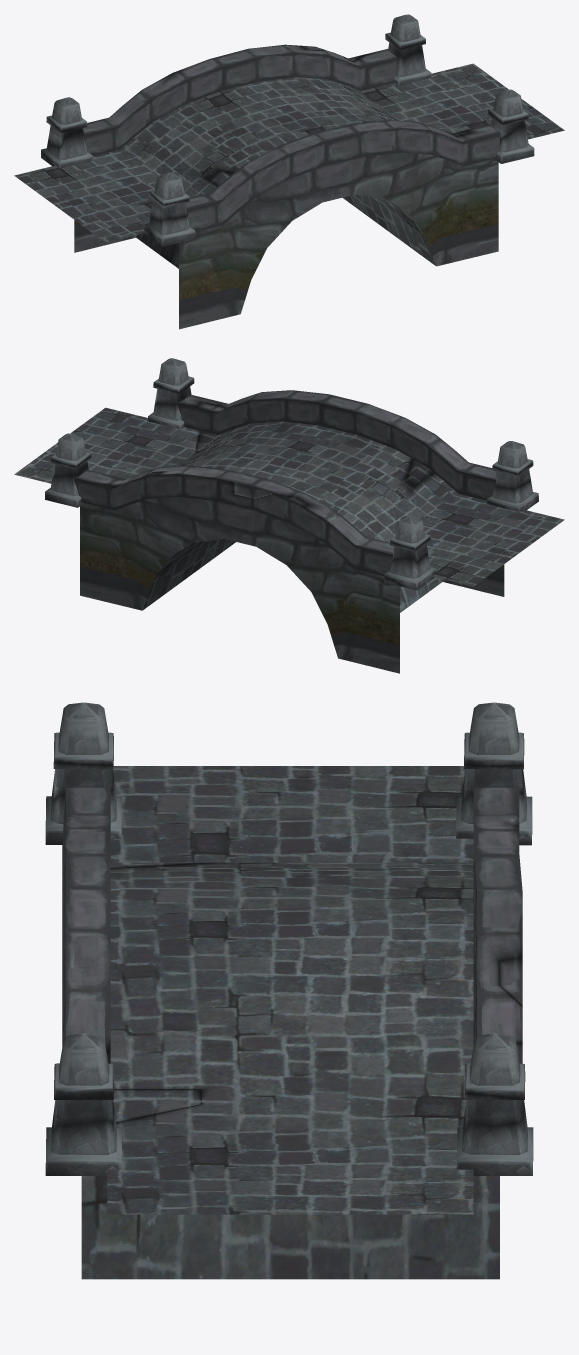
File: object_bridges.fbx
3 renders of one model, top to bottom at view 1: azimuth 30°, elevation 25°; view 2: azimuth 150°, elevation 25°; view 3: azimuth 270°, elevation 25°, orthographic. The views are drawn at different scales.
Parts seen in each view (by area): view 1: object_bridges-0; view 2: object_bridges-0; view 3: object_bridges-0.
Part boxes in pixels (x1=…): object_bridges-0: x1=14, y1=14, x2=564, y2=329; object_bridges-0: x1=14, y1=358, x2=564, y2=673; object_bridges-0: x1=45, y1=702, x2=533, y2=1279.
Size of the model in its own units: 16.71 by 5.51 by 7.68.
